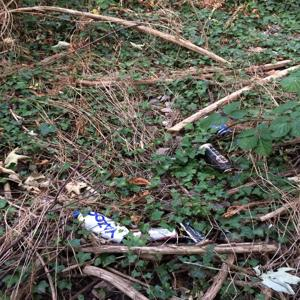metal: (196, 140, 239, 177), (128, 227, 182, 241), (211, 114, 234, 134)
plastic: (70, 206, 133, 244)
